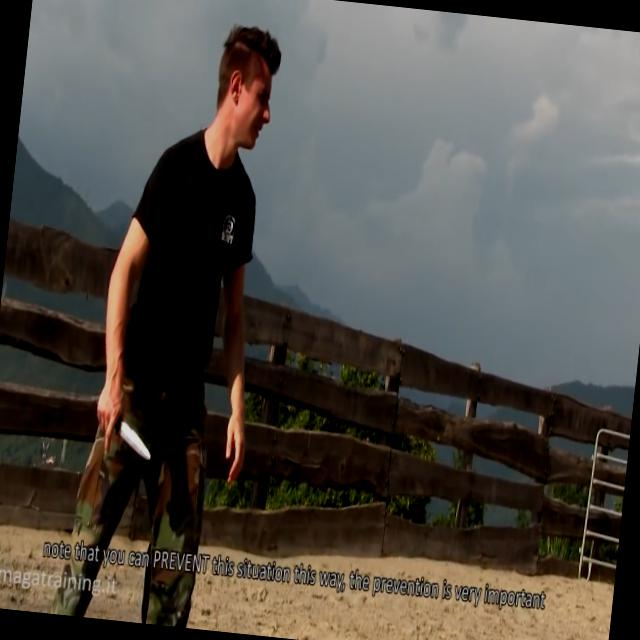knife: (85, 392, 162, 470)
